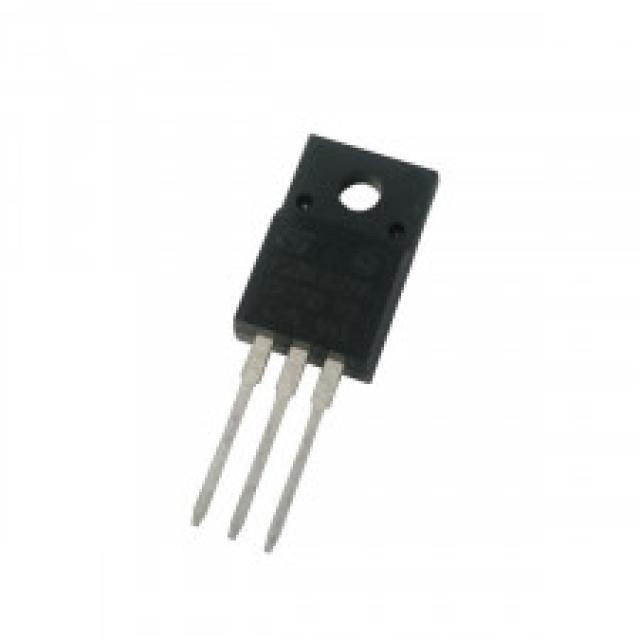Transistor: (190, 134, 437, 556)
